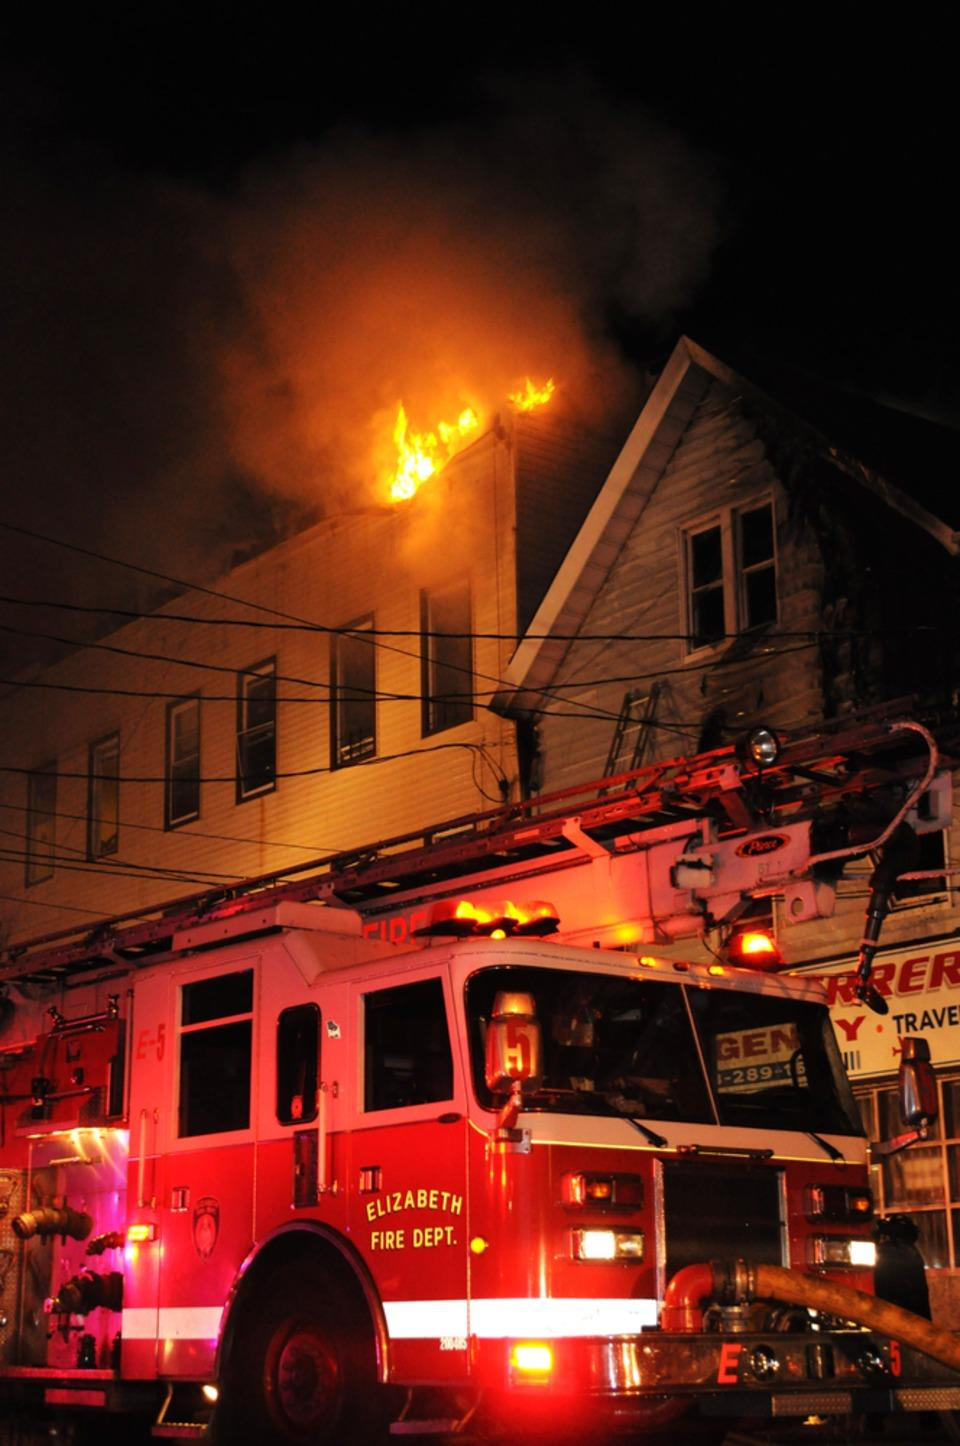Fire: (306, 325, 586, 554)
